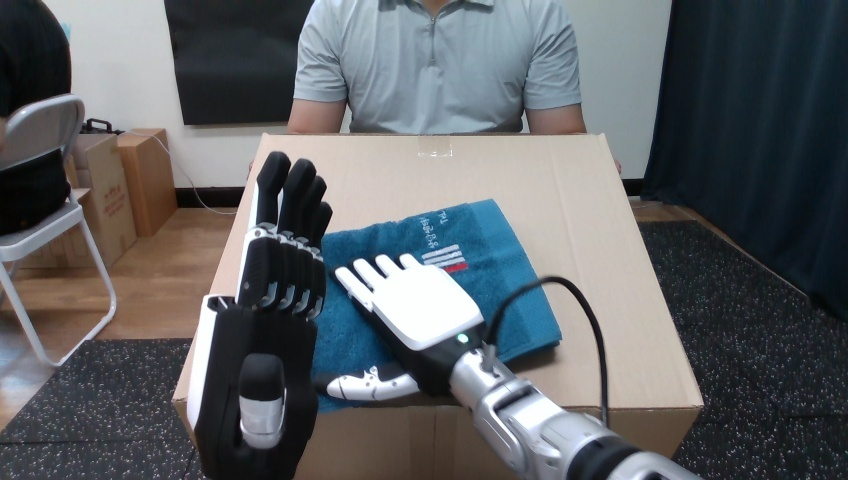left robot hand: (326, 254, 699, 479), (187, 151, 331, 478), (495, 281, 602, 421)
